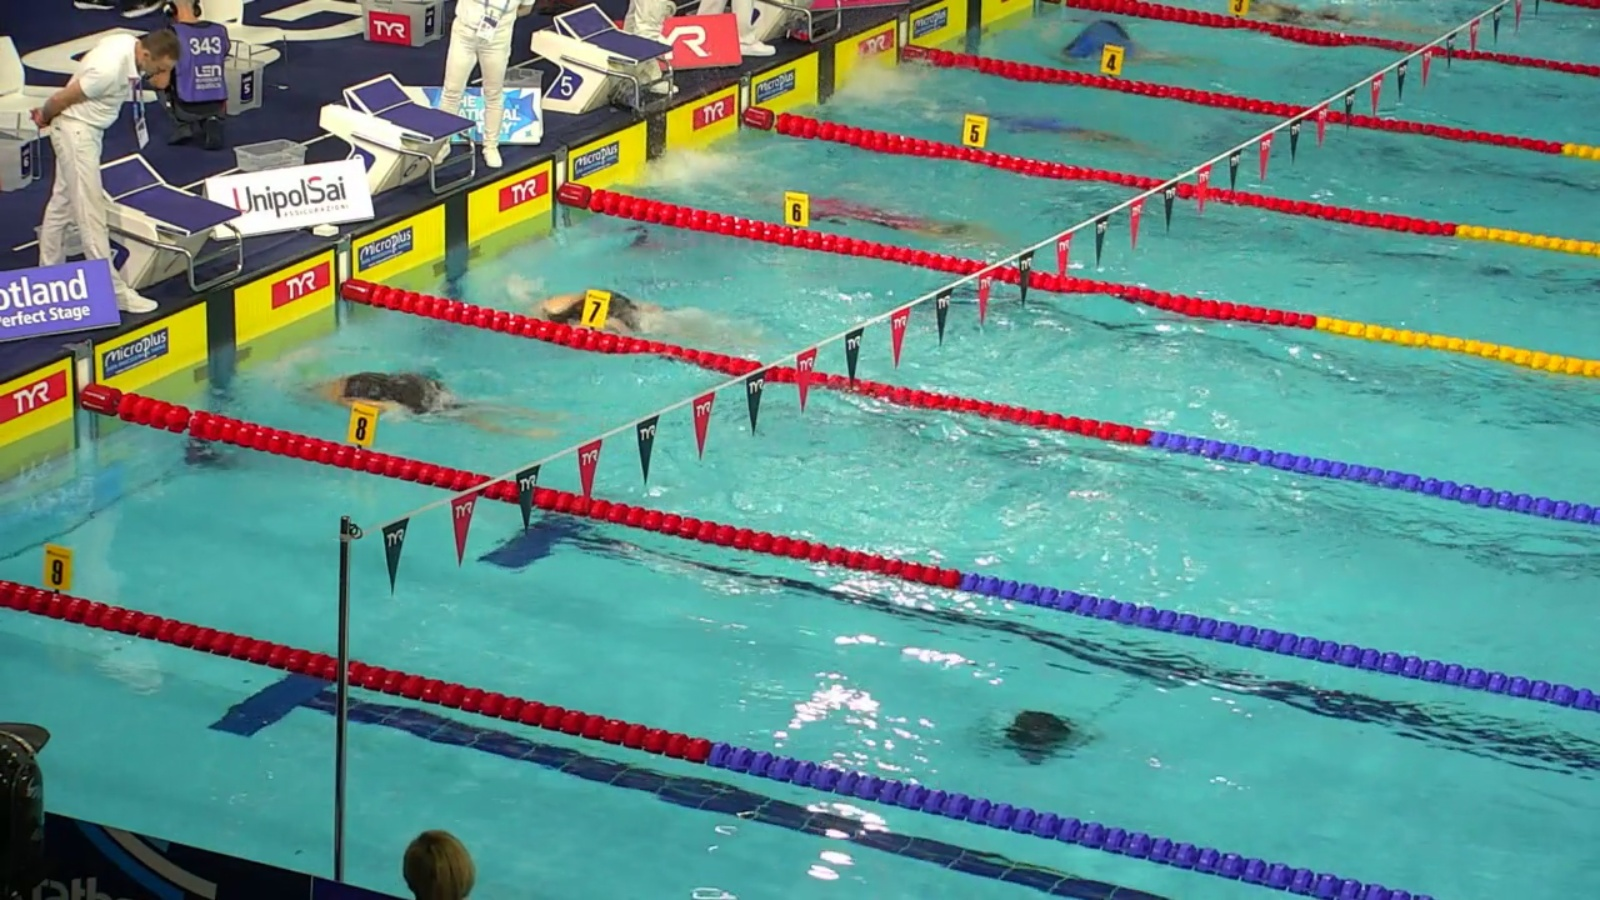swimmerw: (291, 367, 573, 447), (505, 285, 773, 353), (763, 189, 986, 248), (923, 97, 1154, 152), (1062, 15, 1199, 77), (1253, 1, 1451, 29)
